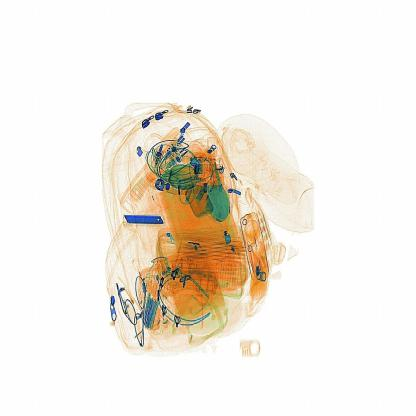pliers: (122, 209, 170, 236)
